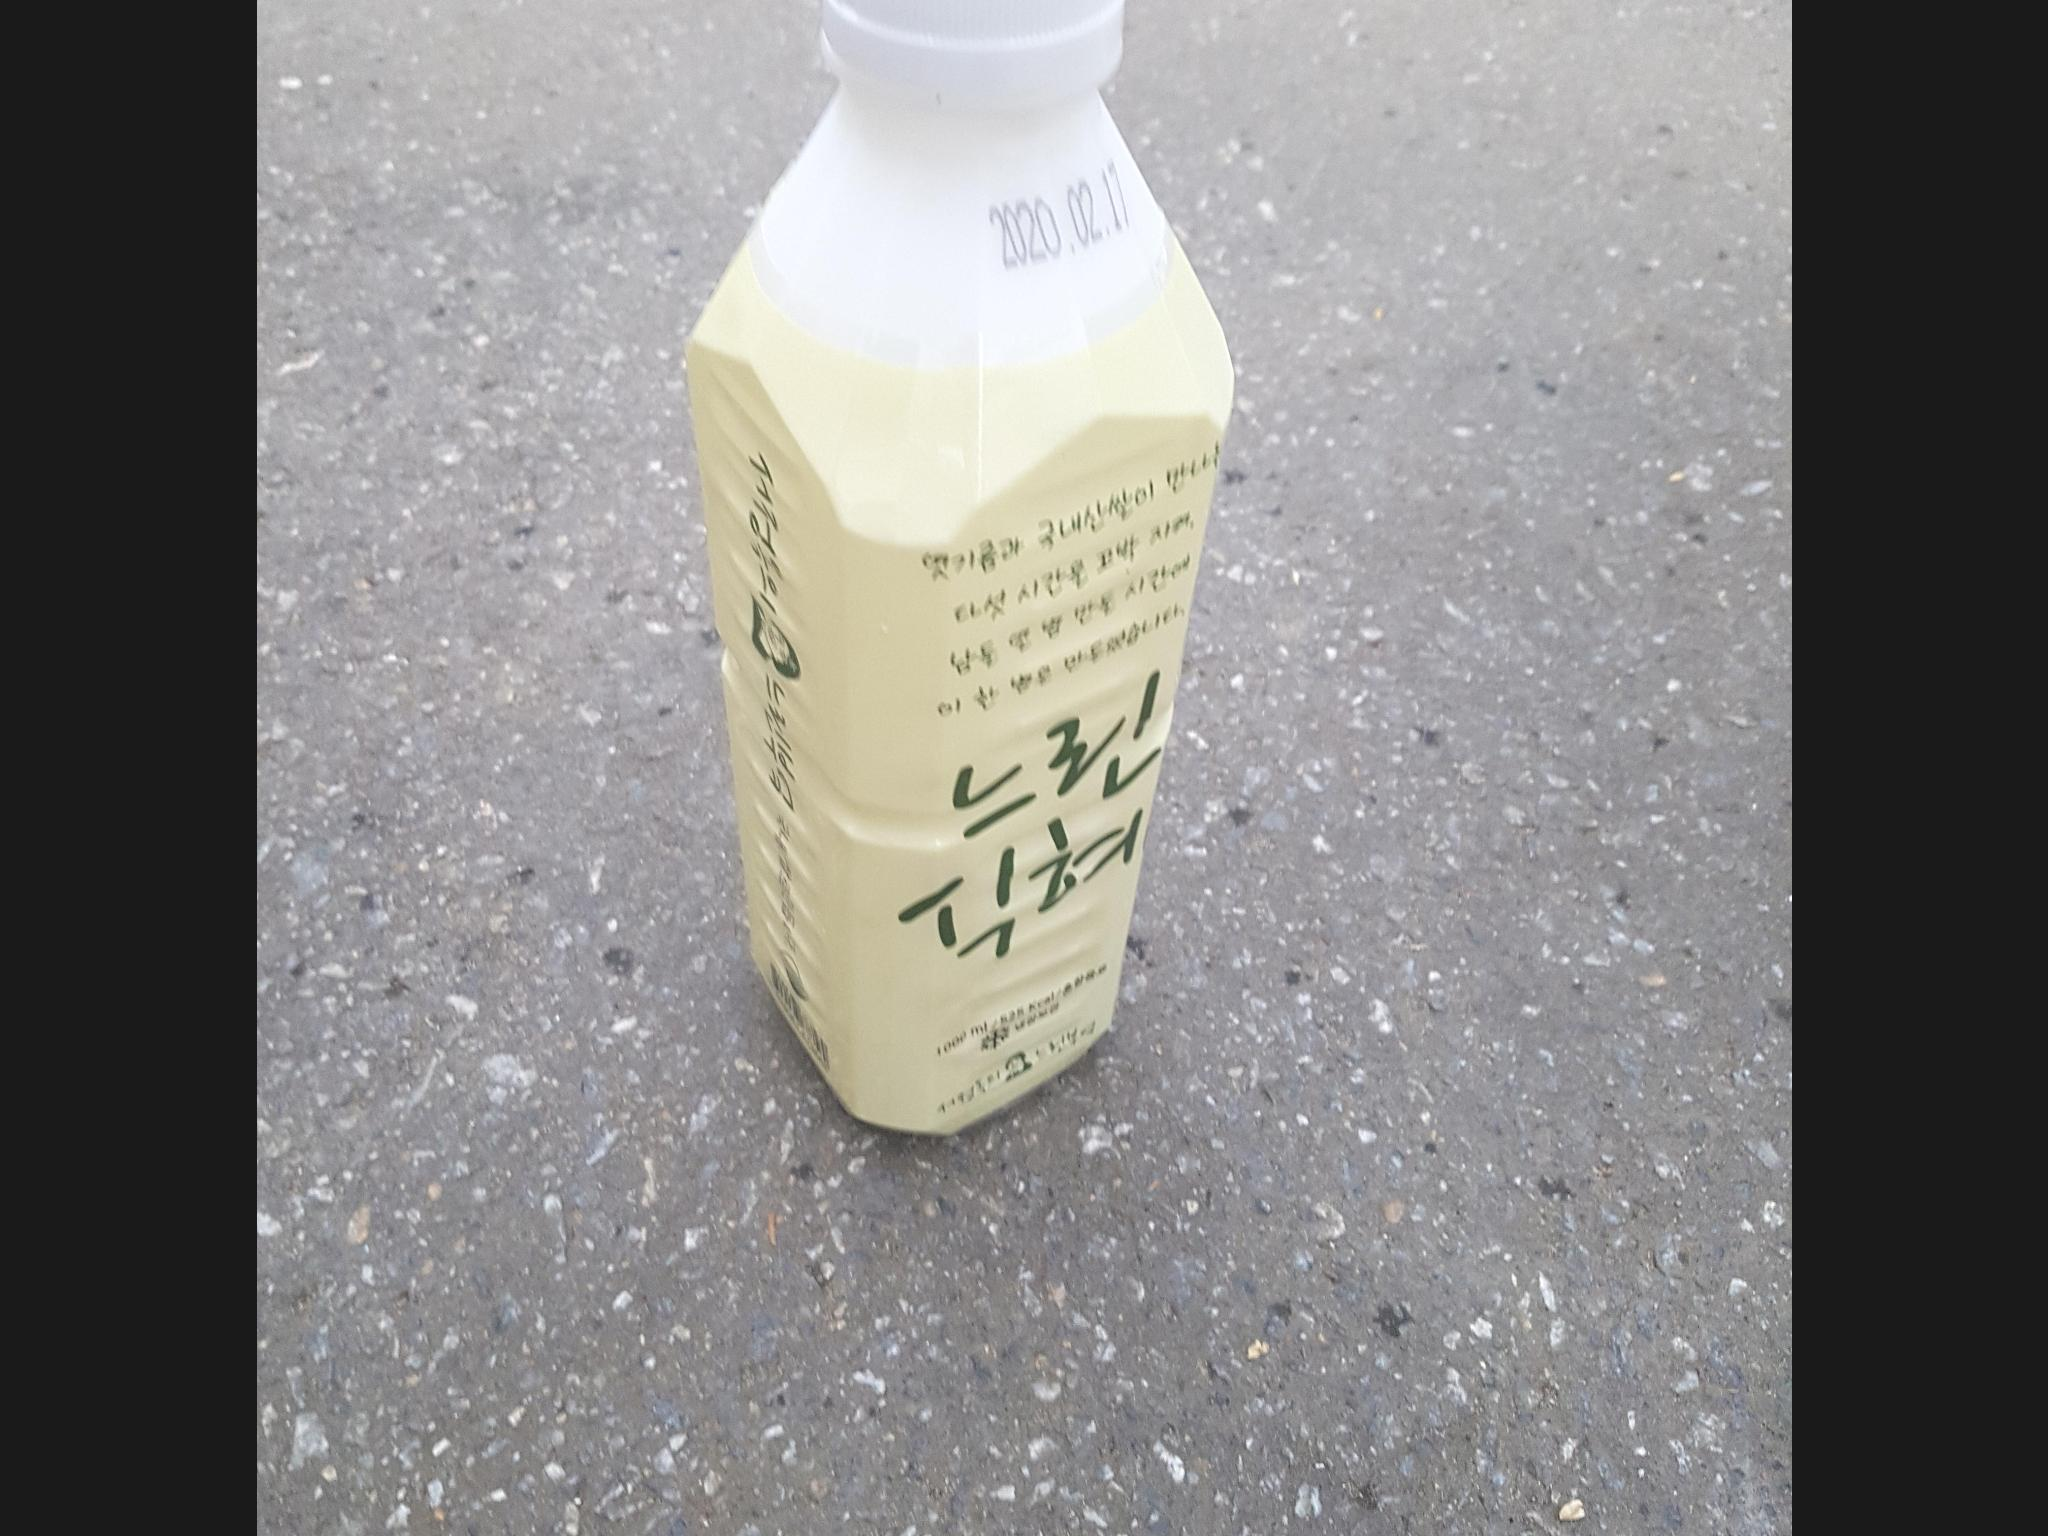bottle: (664, 0, 1255, 1157)
